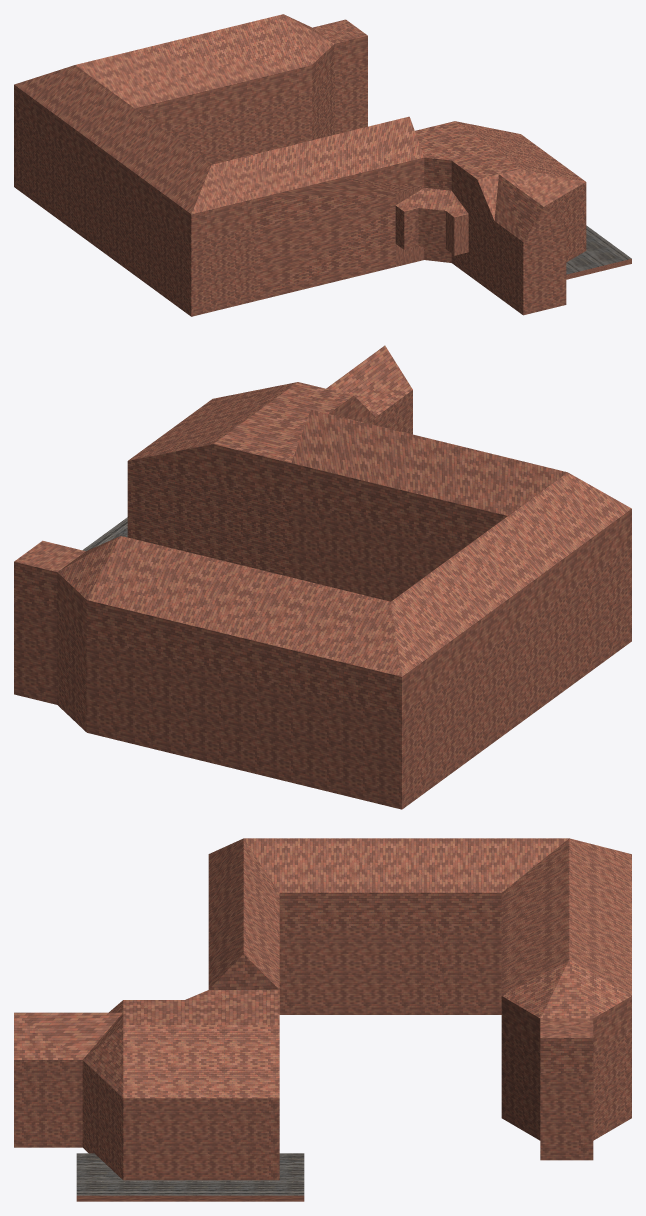
File: level_1.fbx
3 views of the same model, one above another, from view 1: azimuth 30°, elevation 25°; view 2: azimuth 150°, elevation 25°; view 3: azimuth 270°, elevation 25° (orthographic). The views are drawn at different scales.
Parts seen in each view (by area): view 1: Level; view 2: Level; view 3: Level.
Boxes of the visible parts, left/top/right/bottom form: Level: left=14, top=14, right=631, bottom=316; Level: left=14, top=345, right=631, bottom=809; Level: left=14, top=838, right=631, bottom=1201.
Bounding box in the file's own units: 59.96 × 19.81 × 69.76.
